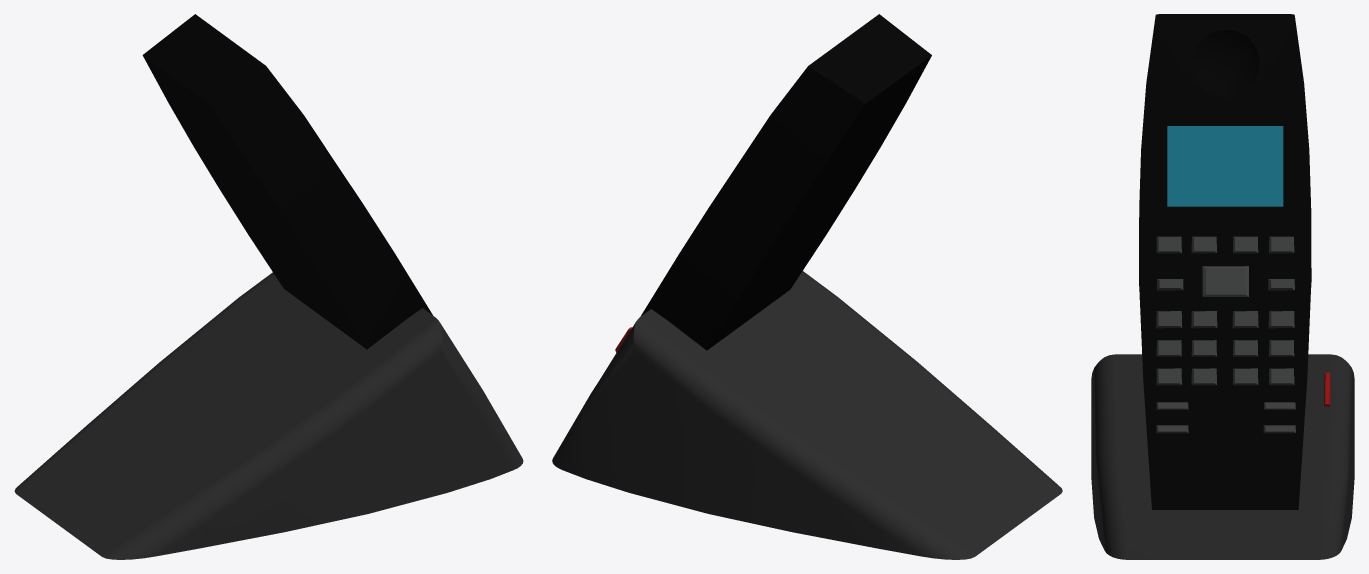
The model's file is Telephone_3.fbx.
The picture shows the model from 3 angles, left to right: view 1: azimuth 30°, elevation 25°; view 2: azimuth 150°, elevation 25°; view 3: azimuth 270°, elevation 25°; orthographic projection. The views are drawn at different scales.
Visible parts, largest first — view 1: pCube1241, pCube1235; view 2: pCube1241, pCube1235; view 3: pCube1235, pCube1241, pCube1259, pCube1244, pCube1254, pCube1250, pCube1249, pCube1251, pCube1248, pCube1242, pCube1237, pCube1252 (+7 smaller).
Boxes of the visible parts, bbox=[...] form: pCube1241: bbox=[14, 272, 523, 559]; pCube1235: bbox=[142, 14, 432, 349]; pCube1241: bbox=[552, 271, 1062, 559]; pCube1235: bbox=[640, 14, 931, 350]; pCube1235: bbox=[1139, 14, 1311, 509]; pCube1241: bbox=[1091, 354, 1354, 559]; pCube1259: bbox=[1202, 266, 1248, 296]; pCube1244: bbox=[1156, 368, 1181, 385]; pCube1254: bbox=[1156, 236, 1181, 253]; pCube1250: bbox=[1191, 368, 1216, 385]; pCube1249: bbox=[1191, 236, 1216, 253]; pCube1251: bbox=[1269, 368, 1294, 385]; pCube1248: bbox=[1233, 368, 1258, 385]; pCube1242: bbox=[1269, 236, 1294, 253]; pCube1237: bbox=[1232, 311, 1258, 328]; pCube1252: bbox=[1268, 311, 1294, 328].
Bounding box in the file's own units: 14.74 × 15.07 × 8.28.
